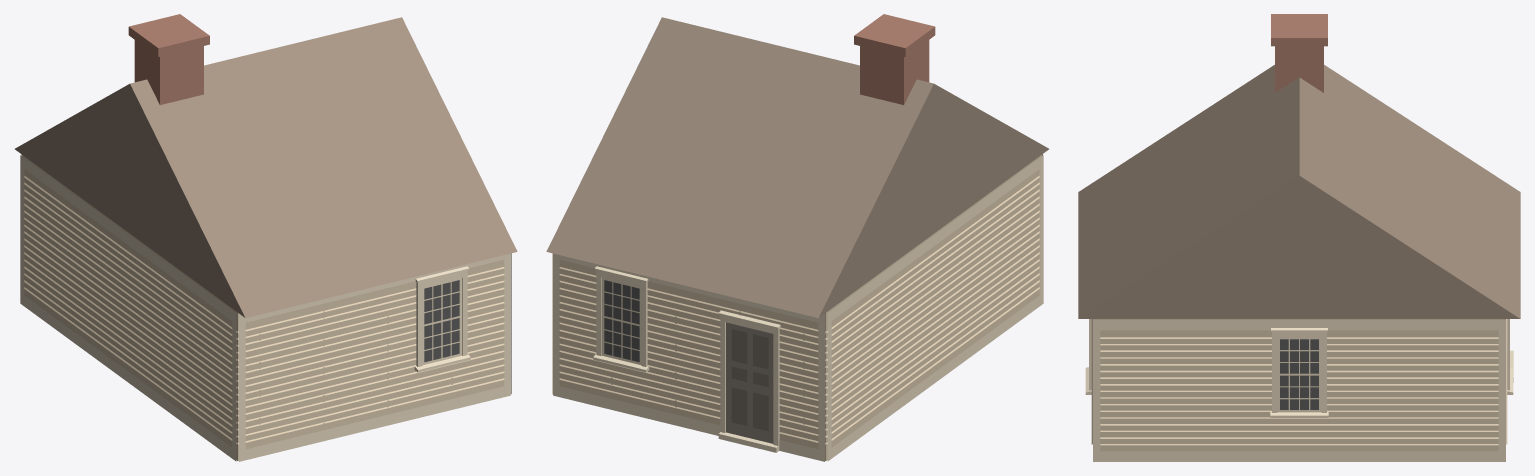
File: recon_1835_blk_south_water_franklin_d3_03__inferred_1835.glb
The picture shows the model from 3 angles, left to right: view 1: azimuth 30°, elevation 25°; view 2: azimuth 150°, elevation 25°; view 3: azimuth 270°, elevation 25°; orthographic projection. The views are drawn at different scales.
Visible parts, largest first — view 1: recon_1835_blk_south_water_franklin_d3_03__inferred_1835; view 2: recon_1835_blk_south_water_franklin_d3_03__inferred_1835; view 3: recon_1835_blk_south_water_franklin_d3_03__inferred_1835.
Part boxes in pixels (x1=…): recon_1835_blk_south_water_franklin_d3_03__inferred_1835: x1=15, y1=14, x2=517, y2=461; recon_1835_blk_south_water_franklin_d3_03__inferred_1835: x1=546, y1=14, x2=1048, y2=461; recon_1835_blk_south_water_franklin_d3_03__inferred_1835: x1=1078, y1=14, x2=1520, y2=461.
Size of the model in its own units: 5.34 by 6.21 by 7.63.
